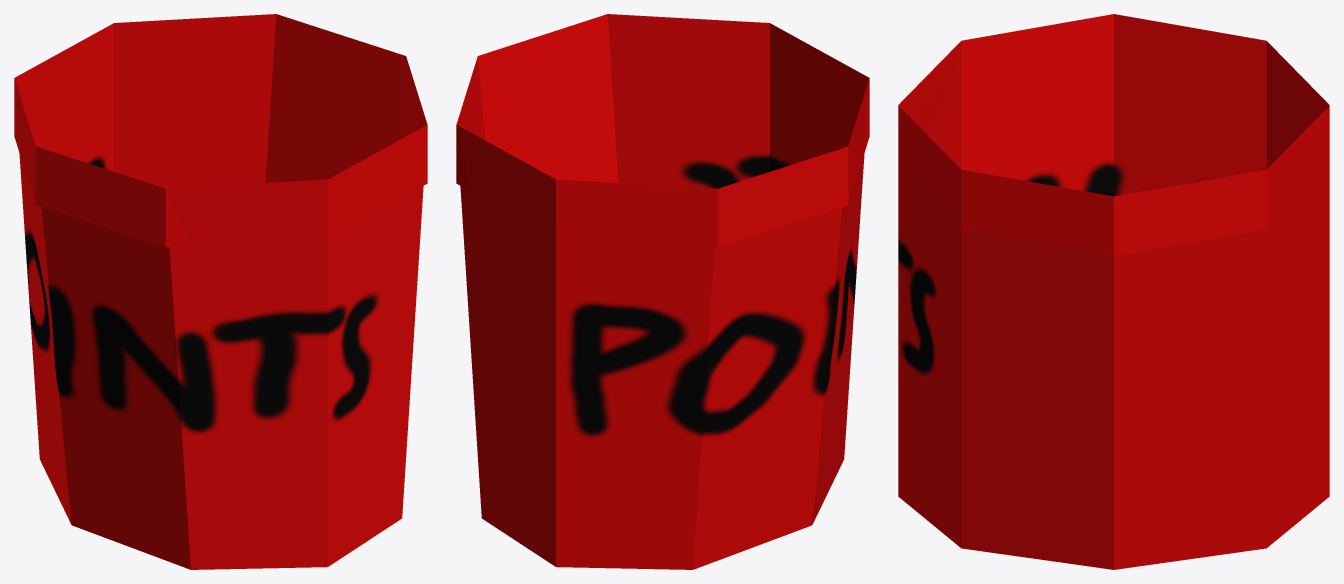
The model's file is PointBucket.glb.
3 views of the same model, side by side, from view 1: azimuth 30°, elevation 25°; view 2: azimuth 150°, elevation 25°; view 3: azimuth 270°, elevation 25° (orthographic).
Visible parts, largest first — view 1: Cylinder; view 2: Cylinder; view 3: Cylinder.
Boxes of the visible parts, <box> form: Cylinder: <box>14,14,427,569</box>; Cylinder: <box>456,14,869,569</box>; Cylinder: <box>898,14,1329,569</box>.
Bounding box in the file's own units: 0.5704 × 0.5704 × 0.5704.
Materials: 1 (1 with a texture image).
